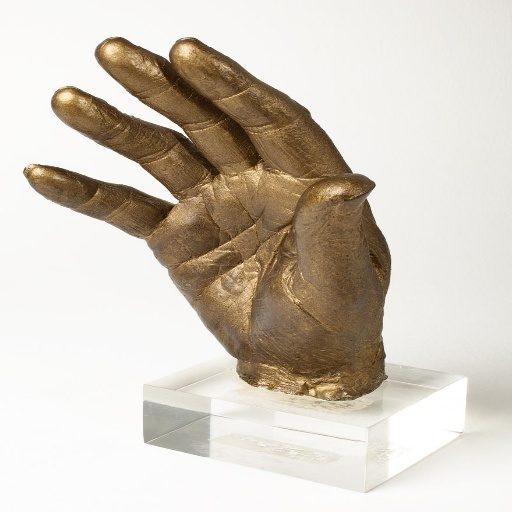hand: (20, 34, 394, 398)
